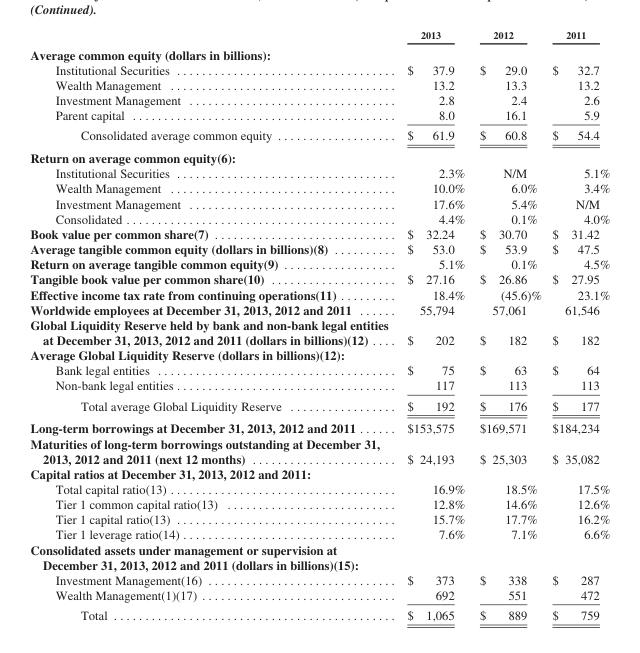table: (29, 29, 609, 622)
table column: (29, 29, 397, 622), (471, 29, 546, 622), (397, 29, 471, 622), (546, 29, 609, 622)
table column header: (29, 29, 609, 43)
table projected row header: (29, 541, 609, 572), (29, 146, 609, 165), (29, 43, 609, 61), (29, 465, 609, 481), (29, 347, 609, 362)
table row: (29, 316, 609, 347), (29, 541, 609, 572), (29, 435, 609, 465), (29, 125, 609, 146), (29, 395, 609, 416), (29, 146, 609, 165), (29, 416, 609, 435), (29, 43, 609, 61), (29, 107, 609, 125), (29, 377, 609, 395), (29, 604, 609, 622), (29, 587, 609, 604), (29, 61, 609, 77), (29, 225, 609, 241), (29, 465, 609, 481), (29, 77, 609, 92), (29, 92, 609, 107), (29, 165, 609, 180), (29, 180, 609, 195), (29, 195, 609, 210), (29, 210, 609, 225), (29, 241, 609, 256), (29, 256, 609, 271), (29, 271, 609, 286), (29, 286, 609, 301), (29, 301, 609, 316), (29, 347, 609, 362), (29, 362, 609, 377), (29, 481, 609, 496), (29, 496, 609, 511), (29, 511, 609, 526), (29, 526, 609, 541), (29, 572, 609, 587), (29, 29, 609, 43)
